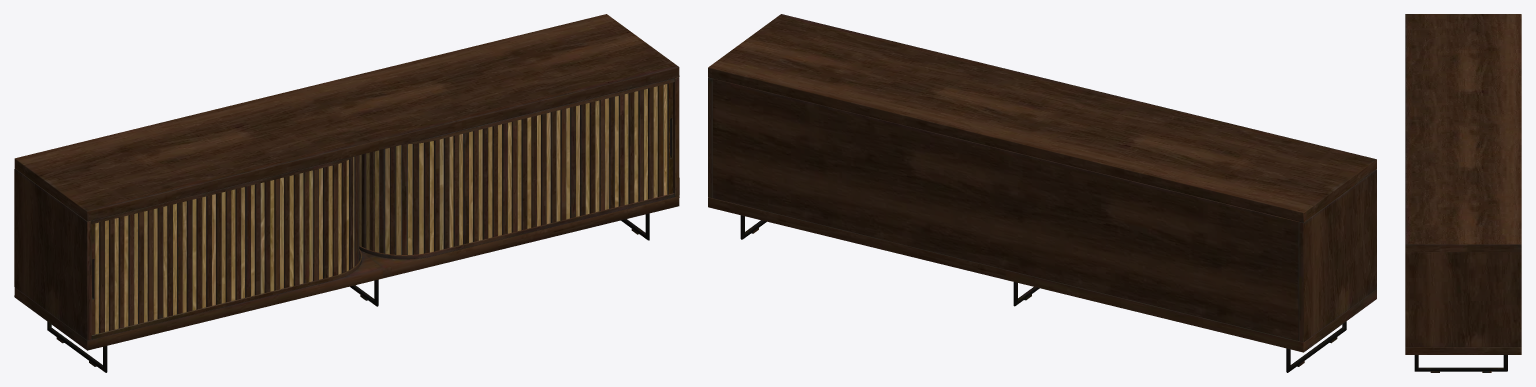
The model's file is ph-cabinet-slatted-medium.glb.
3 renders of one model, left to right at view 1: azimuth 30°, elevation 25°; view 2: azimuth 150°, elevation 25°; view 3: azimuth 270°, elevation 25°, orthographic. The views are drawn at different scales.
Parts seen in each view (by area): view 1: modern_wooden_cabinet_body, modern_wooden_cabinet_door_r, modern_wooden_cabinet_door_l; view 2: modern_wooden_cabinet_body; view 3: modern_wooden_cabinet_body.
Boxes of the visible parts, x1=… form: modern_wooden_cabinet_body: x1=14, y1=14, x2=679, y2=372; modern_wooden_cabinet_door_r: x1=359, y1=82, x2=672, y2=254; modern_wooden_cabinet_door_l: x1=91, y1=155, x2=359, y2=334; modern_wooden_cabinet_body: x1=708, y1=14, x2=1376, y2=372; modern_wooden_cabinet_body: x1=1405, y1=14, x2=1521, y2=372.
Bounding box in the file's own units: 2.44 × 0.6802 × 0.5199.
1 material, 1 textured.
